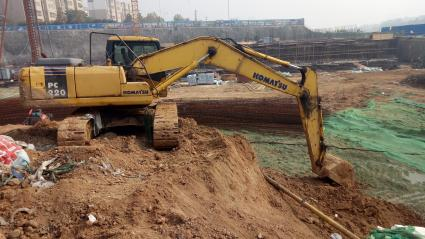excavator: (14, 32, 363, 198)
